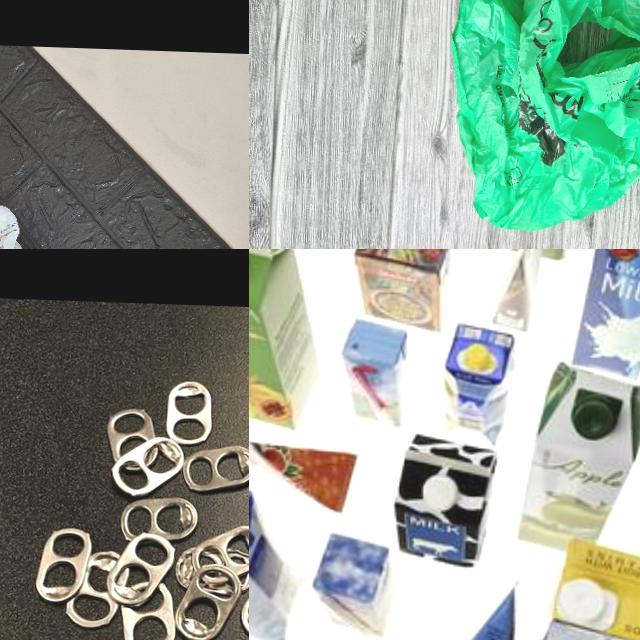aba de lata: (104, 530, 176, 606), (64, 548, 130, 630), (175, 562, 243, 640), (112, 434, 184, 498), (34, 526, 92, 604), (118, 496, 198, 544), (104, 408, 160, 472), (118, 579, 176, 640), (183, 443, 249, 494), (192, 522, 249, 581), (165, 378, 212, 444)
caixinha: (515, 359, 640, 553), (388, 431, 498, 570), (249, 249, 325, 431), (528, 534, 640, 640), (438, 322, 518, 449), (249, 470, 307, 640), (567, 249, 640, 382), (336, 314, 414, 426)
sacola plástica: (440, 0, 640, 240)
tampa plástica: (556, 574, 606, 624), (567, 394, 617, 442), (422, 475, 459, 512), (462, 341, 488, 374)
